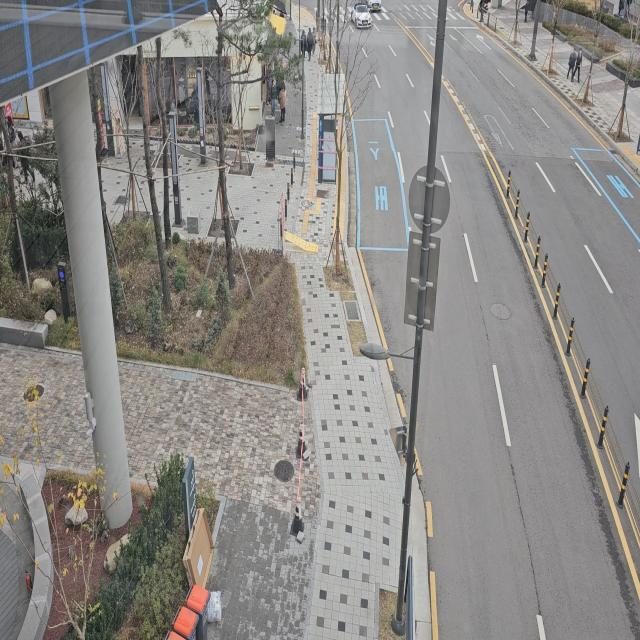Car: (349, 1, 373, 36), (362, 0, 384, 11)
